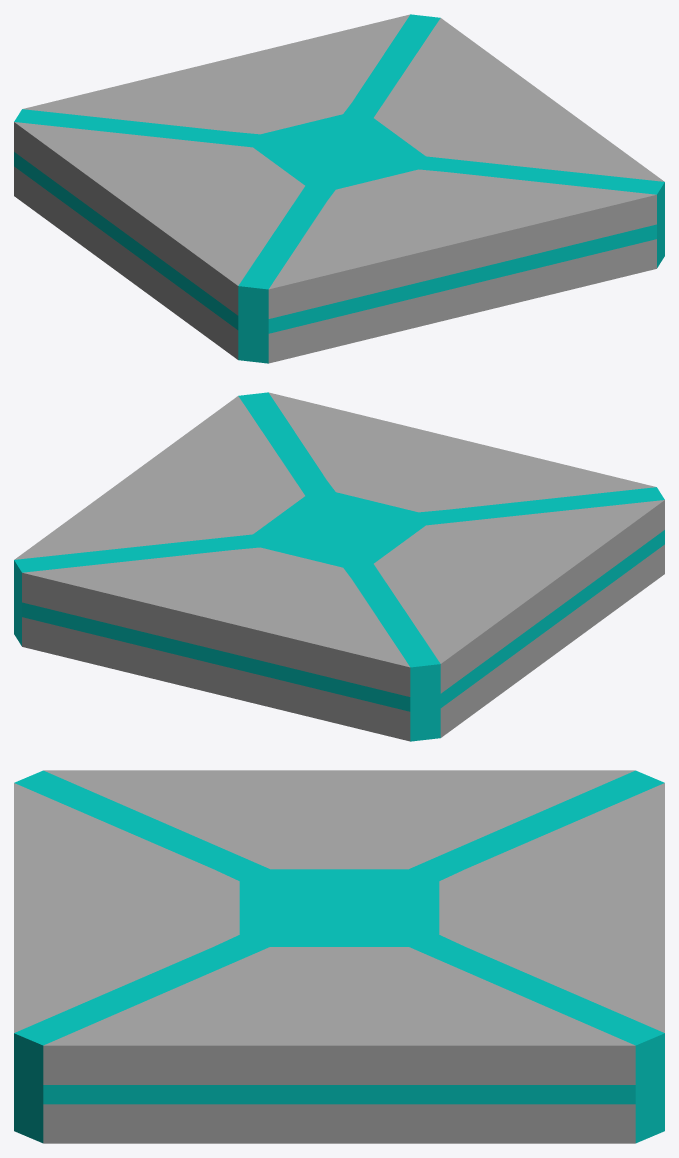
File: groundBlock.fbx
3 views of the same model, one above another, from view 1: azimuth 30°, elevation 25°; view 2: azimuth 150°, elevation 25°; view 3: azimuth 270°, elevation 25° (orthographic). The views are drawn at different scales.
Visible parts, largest first — view 1: Cube.002; view 2: Cube.002; view 3: Cube.002.
Boxes of the visible parts, x1,y1,x2,y2 form: Cube.002: (14,14,664,363); Cube.002: (14,392,664,741); Cube.002: (14,770,664,1143).
Bounding box in the file's own units: 200 × 33.19 × 200.
